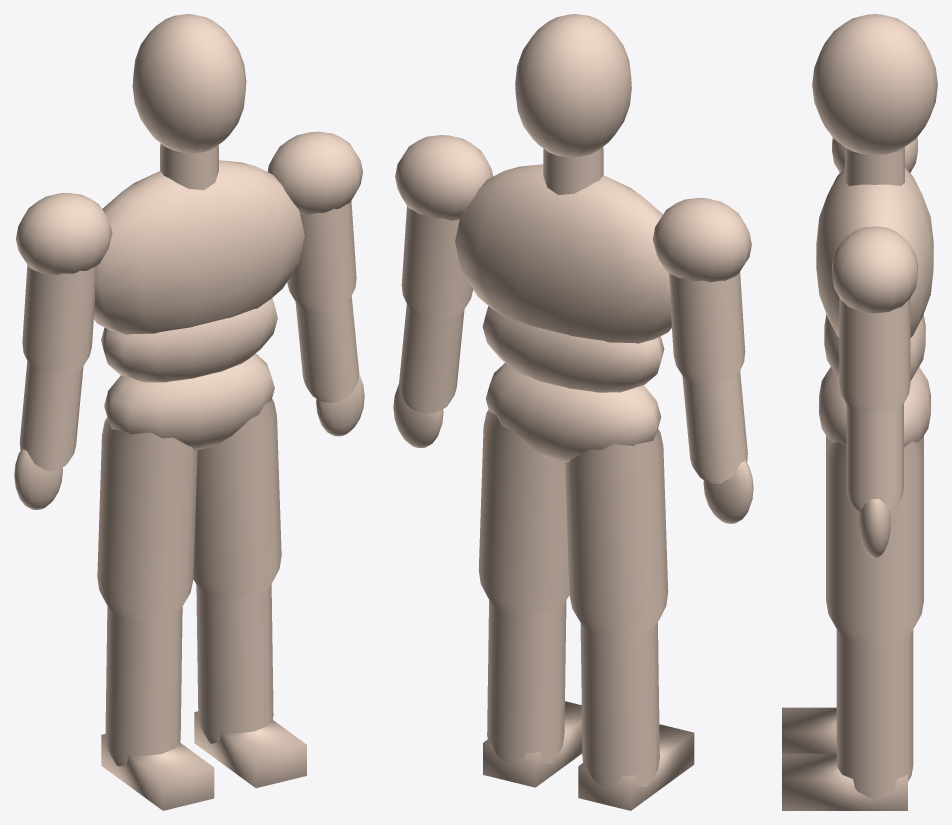
Rendered from male.glb.
The picture shows the model from 3 angles, left to right: view 1: azimuth 30°, elevation 25°; view 2: azimuth 150°, elevation 25°; view 3: azimuth 270°, elevation 25°; orthographic projection. The views are drawn at different scales.
Visible parts, largest first — view 1: Avatar; view 2: Avatar; view 3: Avatar.
Part boxes in pixels (bbox=[...]): Avatar: bbox=[14, 14, 364, 810]; Avatar: bbox=[393, 14, 753, 810]; Avatar: bbox=[782, 14, 937, 810].
Bounding box in the file's own units: 0.75 × 1.53 × 0.285.
